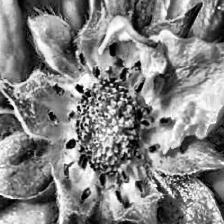Blossom Blight: (41, 41, 175, 210)
